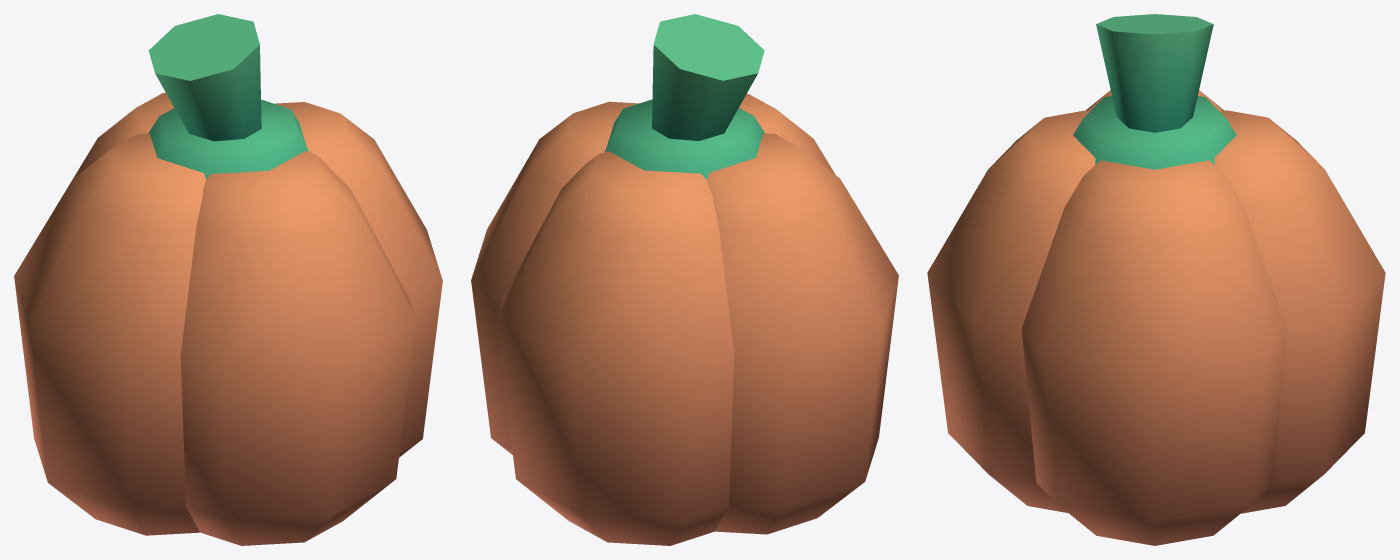
The model's file is pumpkin-tall_lev2.glb.
3 views of the same model, side by side, from view 1: azimuth 30°, elevation 25°; view 2: azimuth 150°, elevation 25°; view 3: azimuth 270°, elevation 25° (orthographic).
Visible parts, largest first — view 1: pumpkin-tall_lev2; view 2: pumpkin-tall_lev2; view 3: pumpkin-tall_lev2.
Boxes of the visible parts, x1,y1,x2,y2 form: pumpkin-tall_lev2: (14,14,442,545); pumpkin-tall_lev2: (471,14,898,545); pumpkin-tall_lev2: (927,14,1385,545).
Bounding box in the file's own units: 0.3255 × 0.3597 × 0.3255.
Materials: 1 (1 with a texture image).
